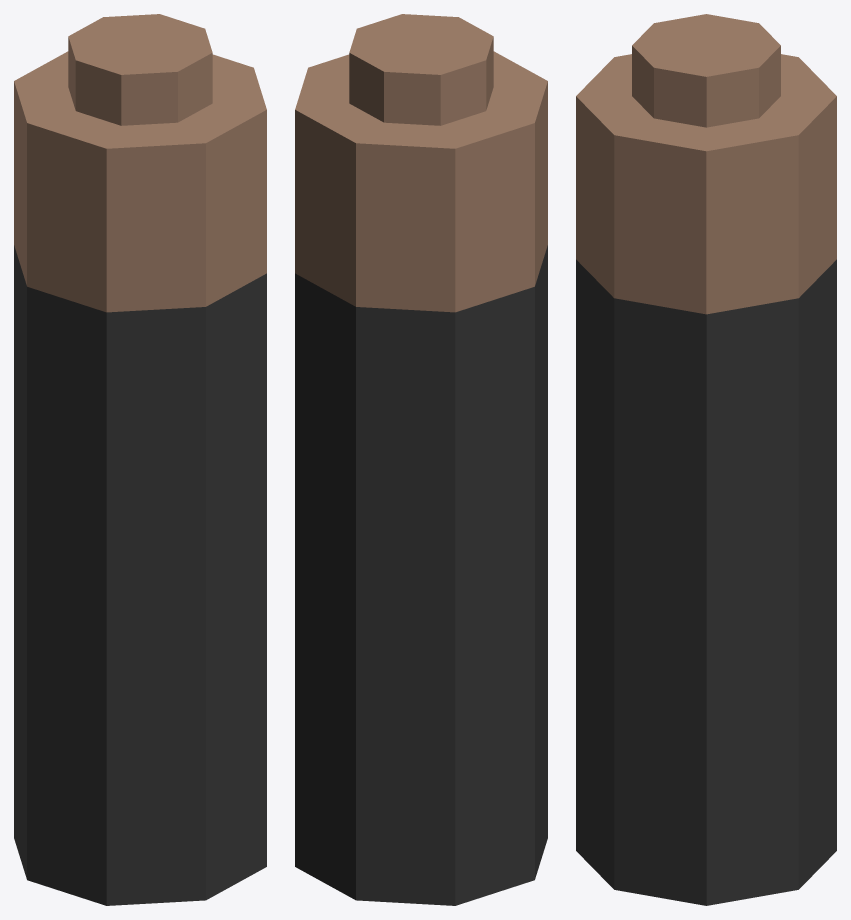
File: Battery.fbx
3 renders of one model, left to right at view 1: azimuth 30°, elevation 25°; view 2: azimuth 150°, elevation 25°; view 3: azimuth 270°, elevation 25°, orthographic.
Visible parts, largest first — view 1: pCylinder43; view 2: pCylinder43; view 3: pCylinder43.
Part boxes in pixels (x1,y1,x2,y2): pCylinder43: (14, 14, 266, 905); pCylinder43: (295, 14, 547, 905); pCylinder43: (576, 14, 836, 905).
Size of the model in its own units: 2 by 6.81 by 2.
